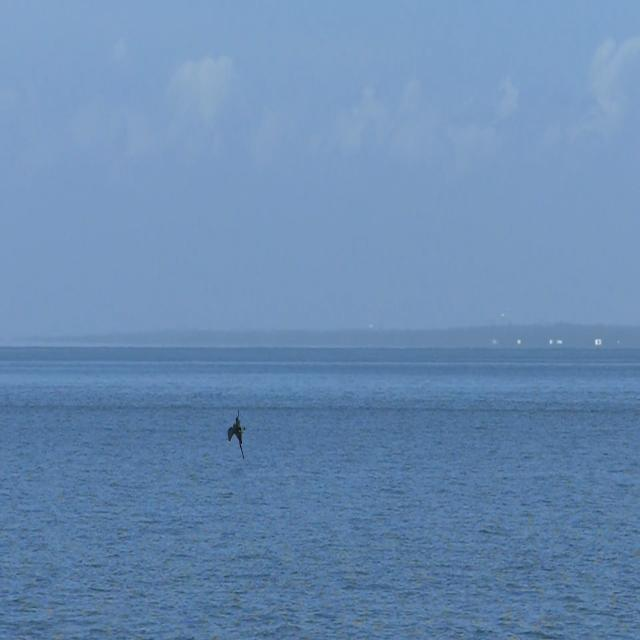bird: (225, 406, 253, 463)
